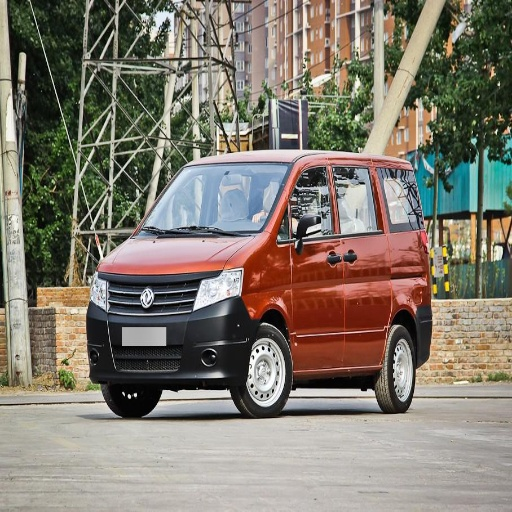front_bumper: (87, 271, 254, 388)
front_glass: (135, 165, 290, 236)
front_left_door: (277, 161, 347, 370)
trunk: (392, 245, 429, 323)
